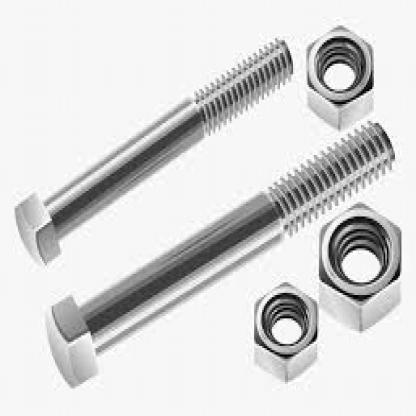METAL: (45, 119, 393, 384), (11, 34, 293, 265), (319, 202, 400, 329), (306, 21, 374, 130), (252, 280, 316, 380)
